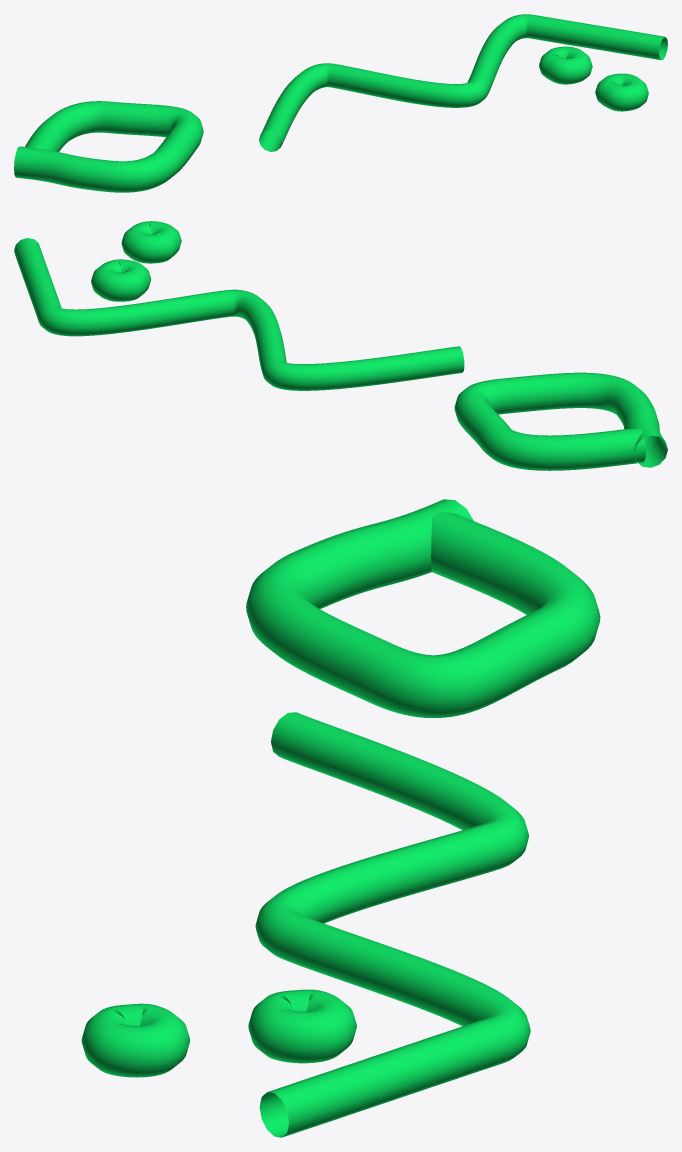
Rendered from aksara_sau.fbx.
3 renders of one model, top to bottom at view 1: azimuth 30°, elevation 25°; view 2: azimuth 150°, elevation 25°; view 3: azimuth 270°, elevation 25°, orthographic. The views are drawn at different scales.
Parts seen in each view (by area): view 1: BézierCurve; view 2: BézierCurve; view 3: BézierCurve.
Part boxes in pixels (x1,y1,x2,y2): BézierCurve: [14, 14, 667, 192]; BézierCurve: [14, 221, 667, 470]; BézierCurve: [81, 499, 600, 1137].
Bounding box in the file's own units: 9803 × 434 × 3561.
